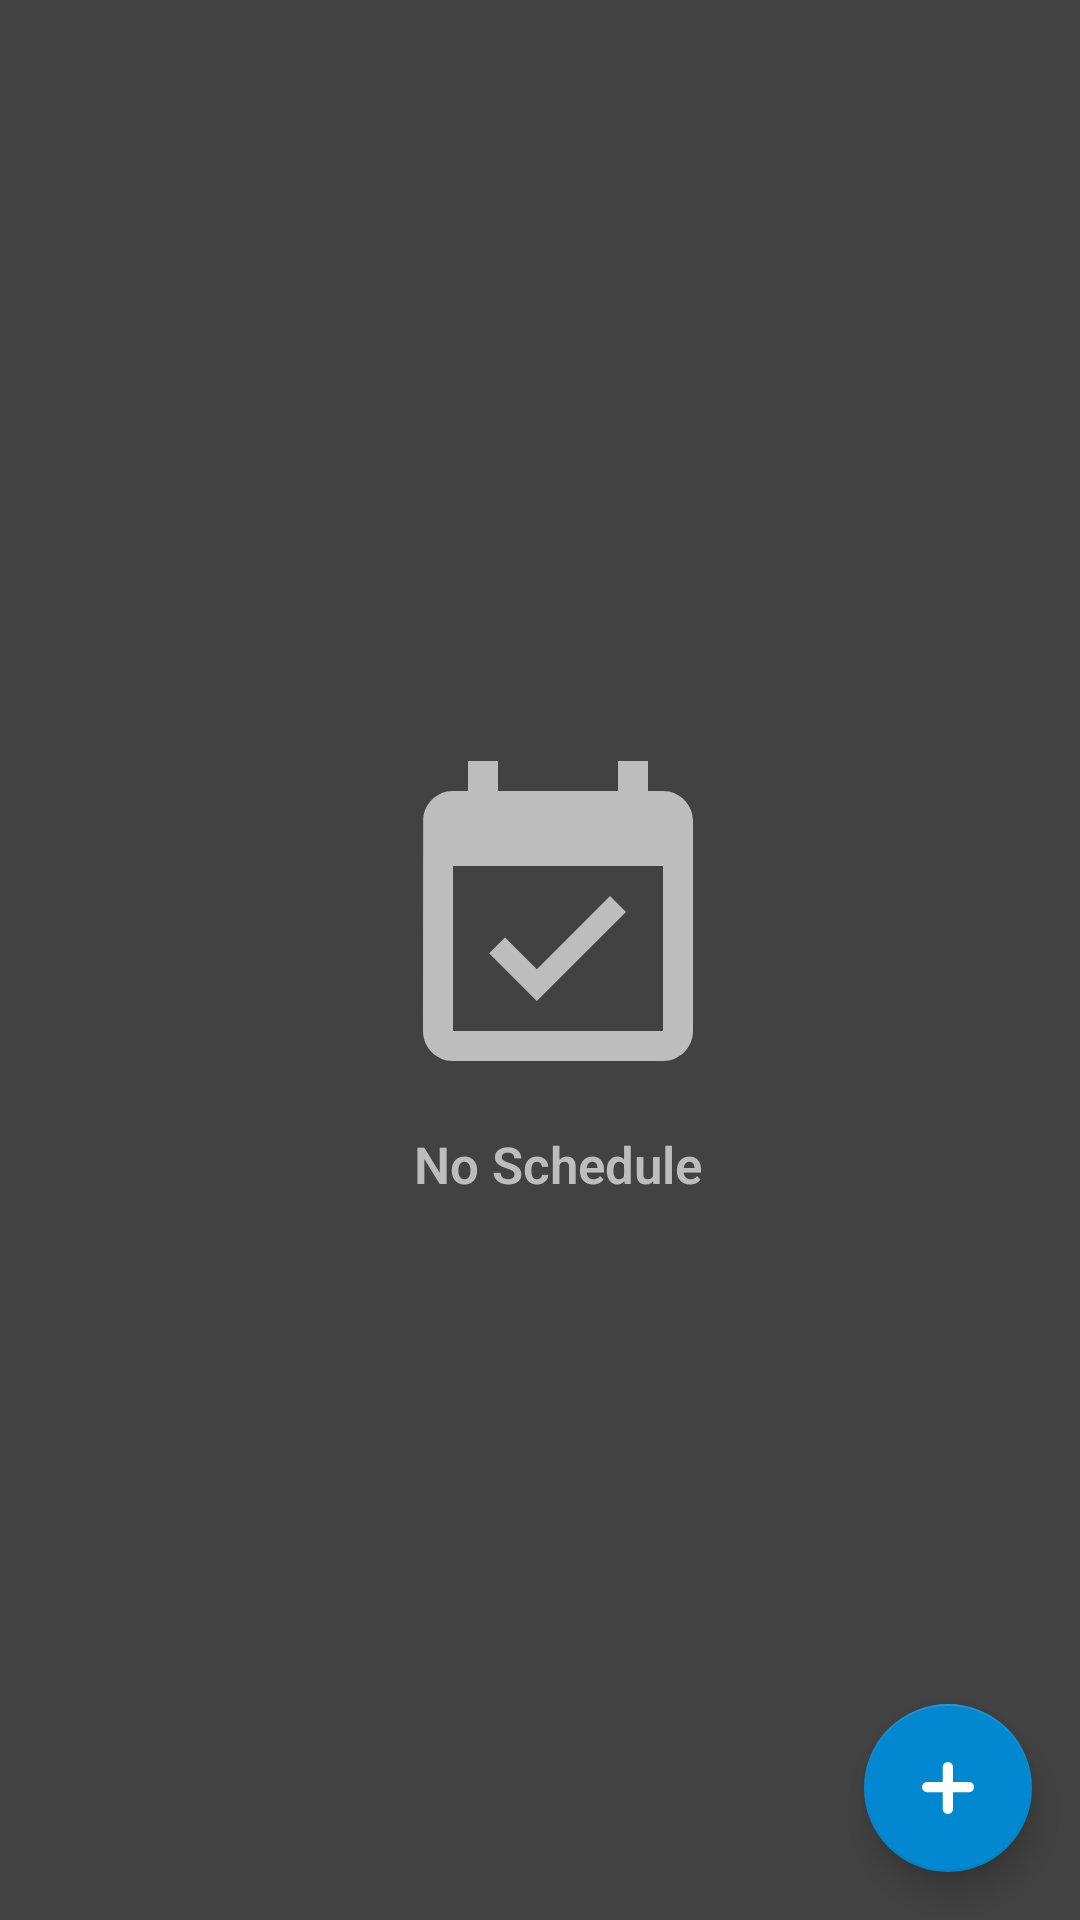

Where icons sit on this 1080×1920 app screen, as (x1, y1, x2, y2):
event empty: (423, 761, 693, 1061)
New Schedule: (864, 1704, 1032, 1872)
